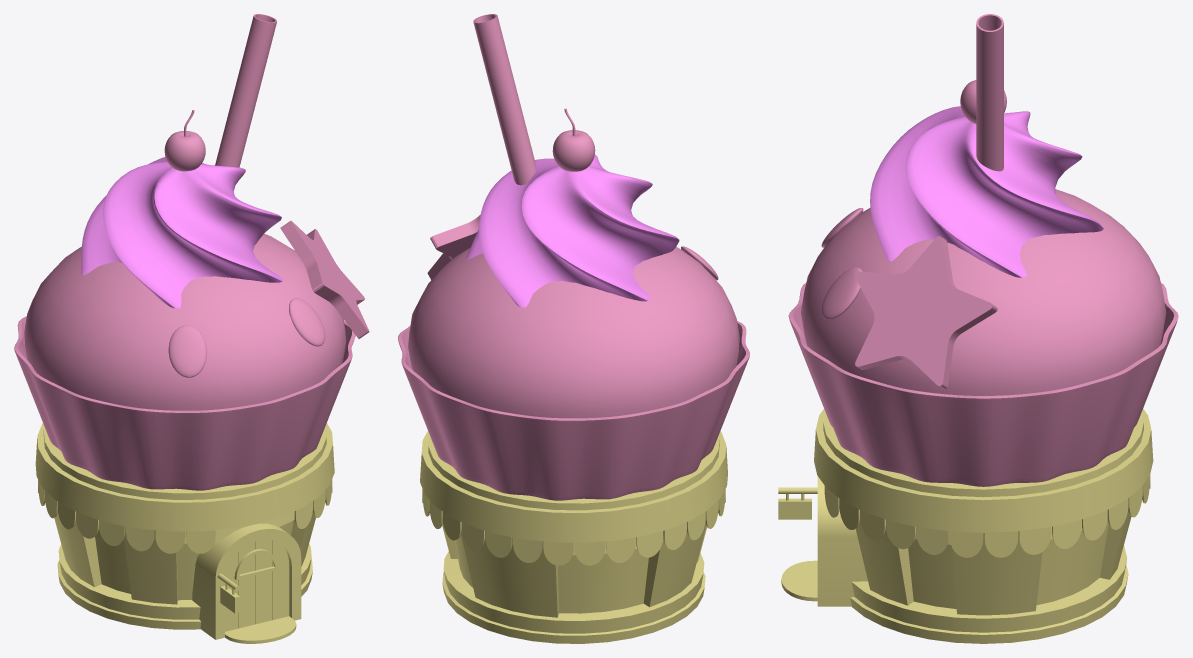
The model's file is shop_cupcake_01.fbx.
The picture shows the model from 3 angles, left to right: view 1: azimuth 30°, elevation 25°; view 2: azimuth 150°, elevation 25°; view 3: azimuth 270°, elevation 25°; orthographic projection. The views are drawn at different scales.
Visible parts, largest first — view 1: main_02_l; view 2: main_02_l; view 3: main_02_l.
Boxes of the visible parts, x1=… form: main_02_l: x1=14, y1=14, x2=369, y2=643; main_02_l: x1=398, y1=14, x2=749, y2=643; main_02_l: x1=778, y1=14, x2=1178, y2=643.
Bounding box in the file's own units: 2416 × 4011 × 2387.
